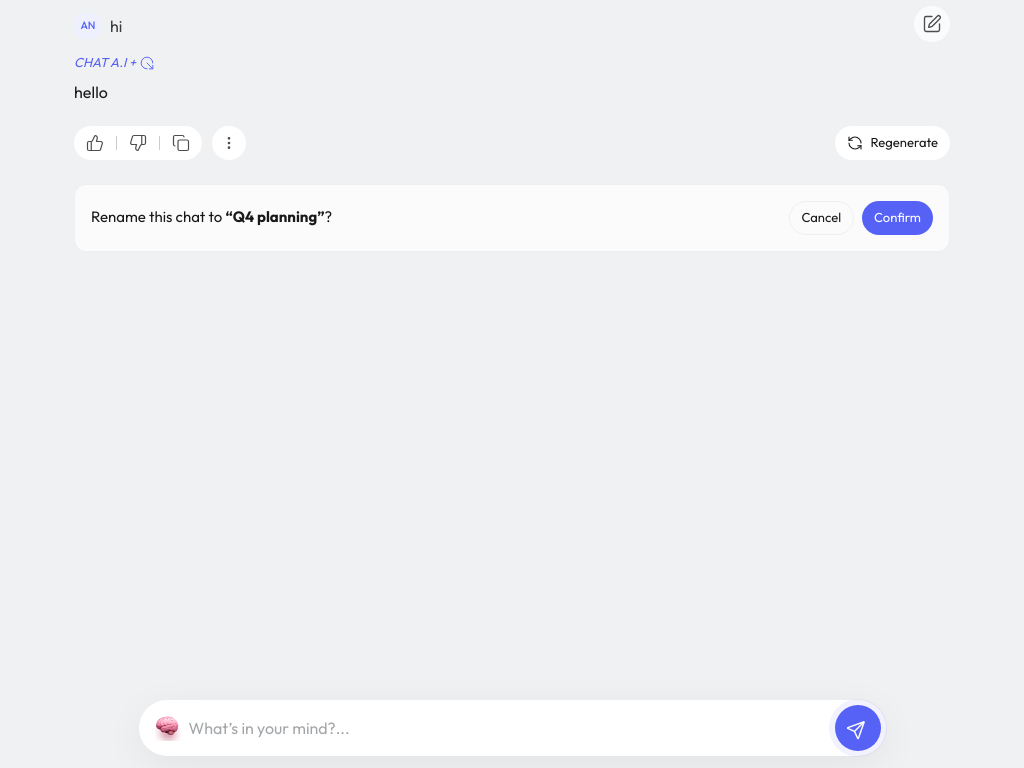
Test: ThreadPane › closes the card on Cancel without renaming
Expected: the element "Rename this chat" is shown, [74,184,950,252]
Click the button "Cancel". click: (821, 218)
box: [788,200,854,234]
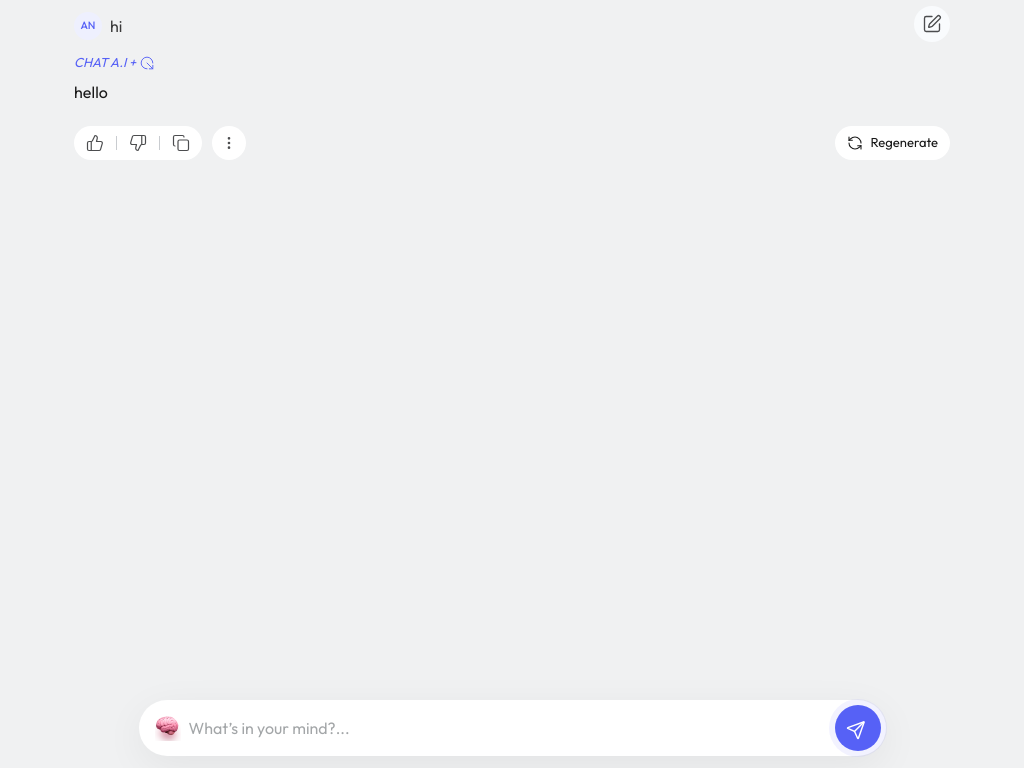
Expected: the element "Rename this chat" is gone
